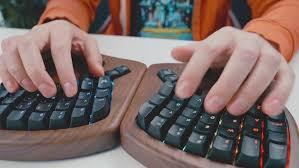keyboard: (135, 64, 297, 167), (0, 64, 128, 130)
